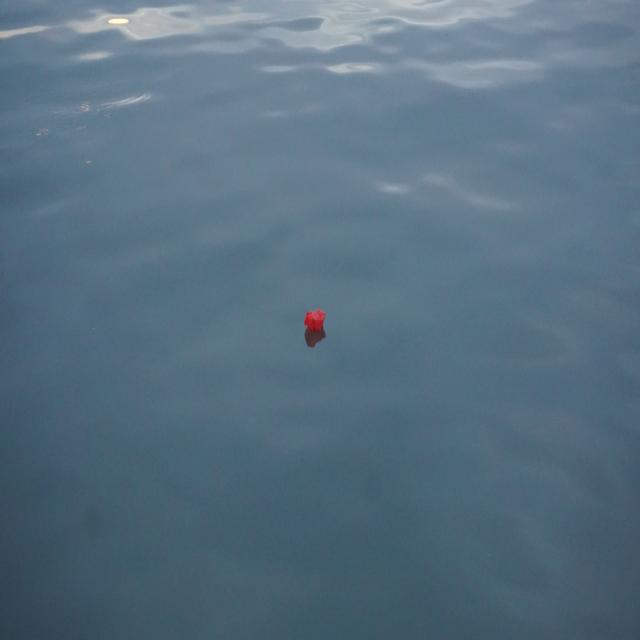Kantong Plastik: (303, 304, 331, 340)
